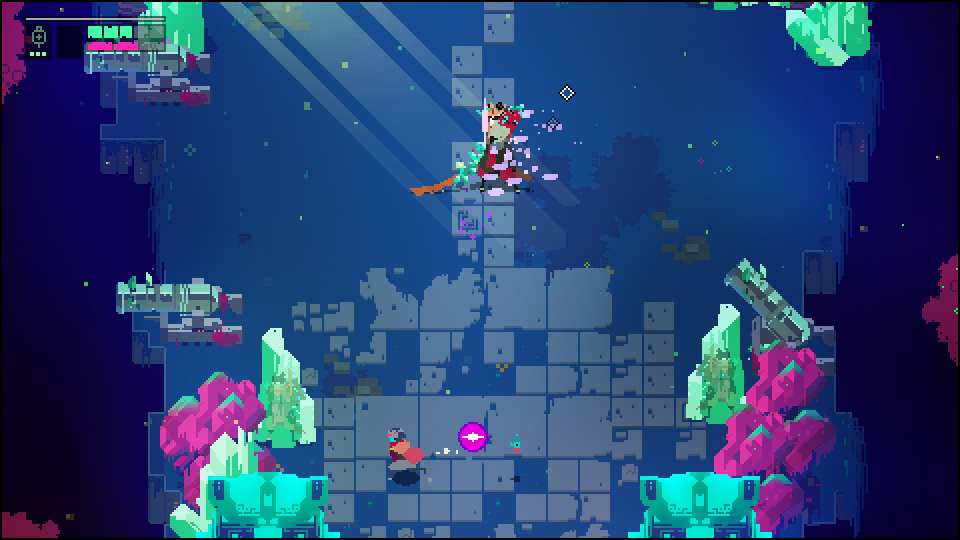hanged_man: (453, 102, 542, 199)
hanged_shot: (458, 420, 488, 453)
player: (386, 424, 425, 474)
